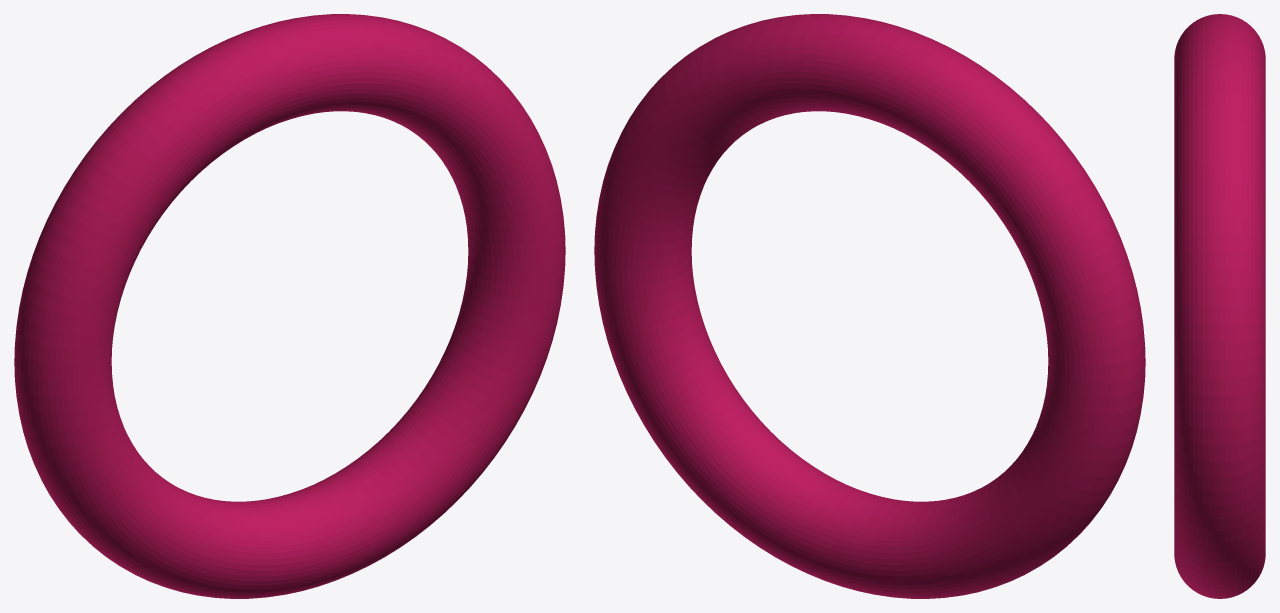
The picture shows the model from 3 angles, left to right: view 1: azimuth 30°, elevation 25°; view 2: azimuth 150°, elevation 25°; view 3: azimuth 270°, elevation 25°; orthographic projection. The views are drawn at different scales.
Parts seen in each view (by area): view 1: world; view 2: world; view 3: world.
Part boxes in pixels (<box>): world: <box>14,14,565,598</box>; world: <box>594,14,1145,598</box>; world: <box>1174,14,1265,598</box>.
Size of the model in its own units: 33.2 by 33.2 by 5.19.
